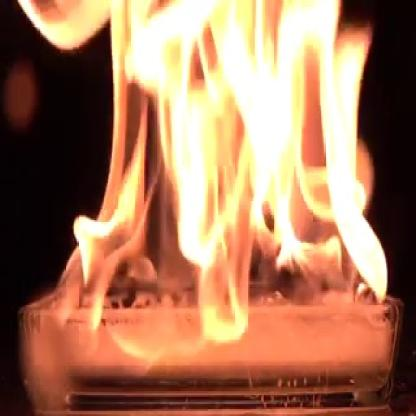fire: (16, 0, 393, 344)
